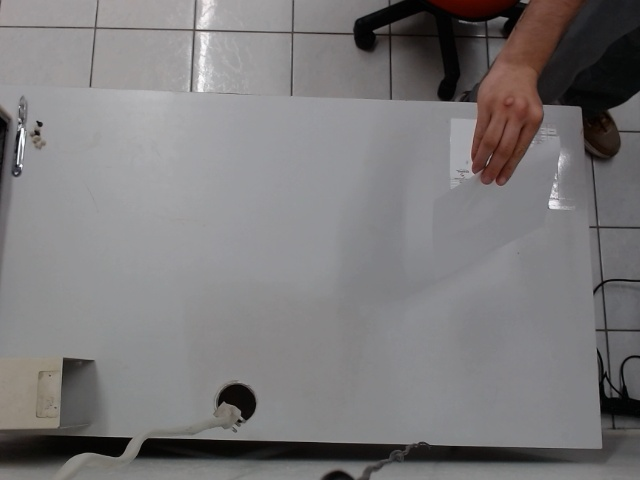divisor: (423, 126, 562, 282)
